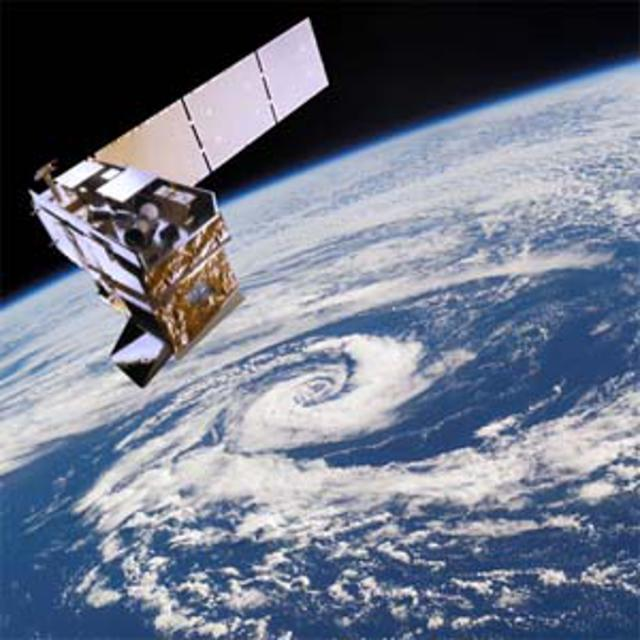satellite: (28, 1, 349, 414)
